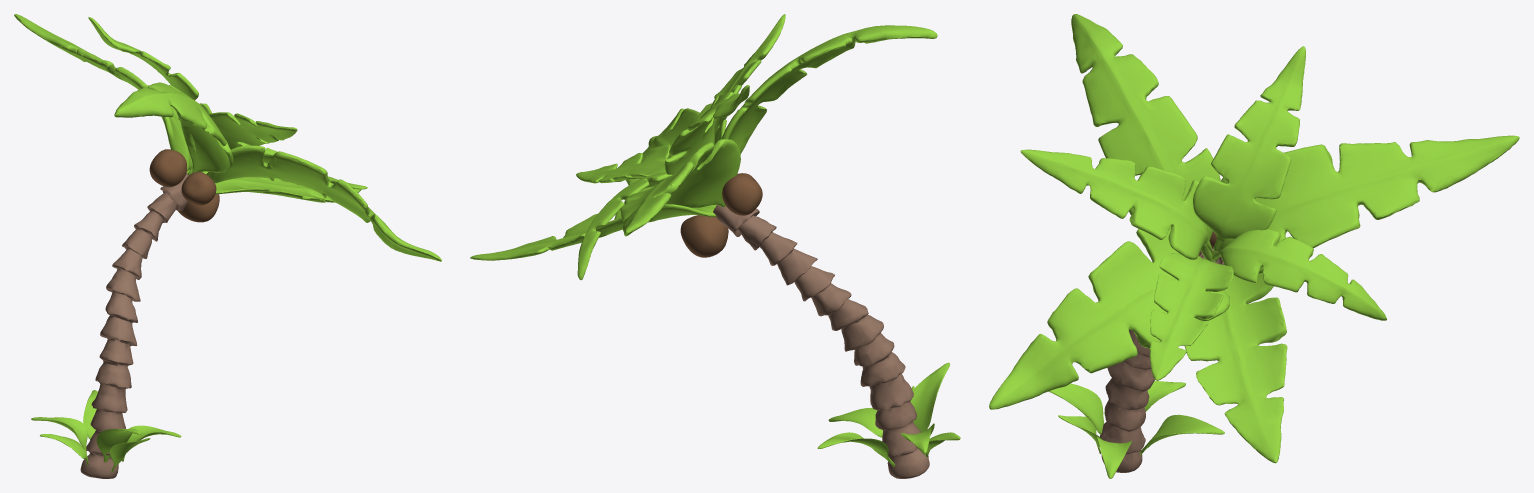
The model's file is Palm1.fbx.
3 renders of one model, left to right at view 1: azimuth 30°, elevation 25°; view 2: azimuth 150°, elevation 25°; view 3: azimuth 270°, elevation 25°, orthographic. The views are drawn at different scales.
Parts seen in each view (by area): view 1: Object_35; view 2: Object_35; view 3: Object_35.
Boxes of the visible parts, left/top/right/bottom form: Object_35: left=14, top=14, right=441, bottom=478; Object_35: left=470, top=14, right=960, bottom=478; Object_35: left=989, top=14, right=1519, bottom=478.
Size of the model in its own units: 2905 by 2839 by 2983.
